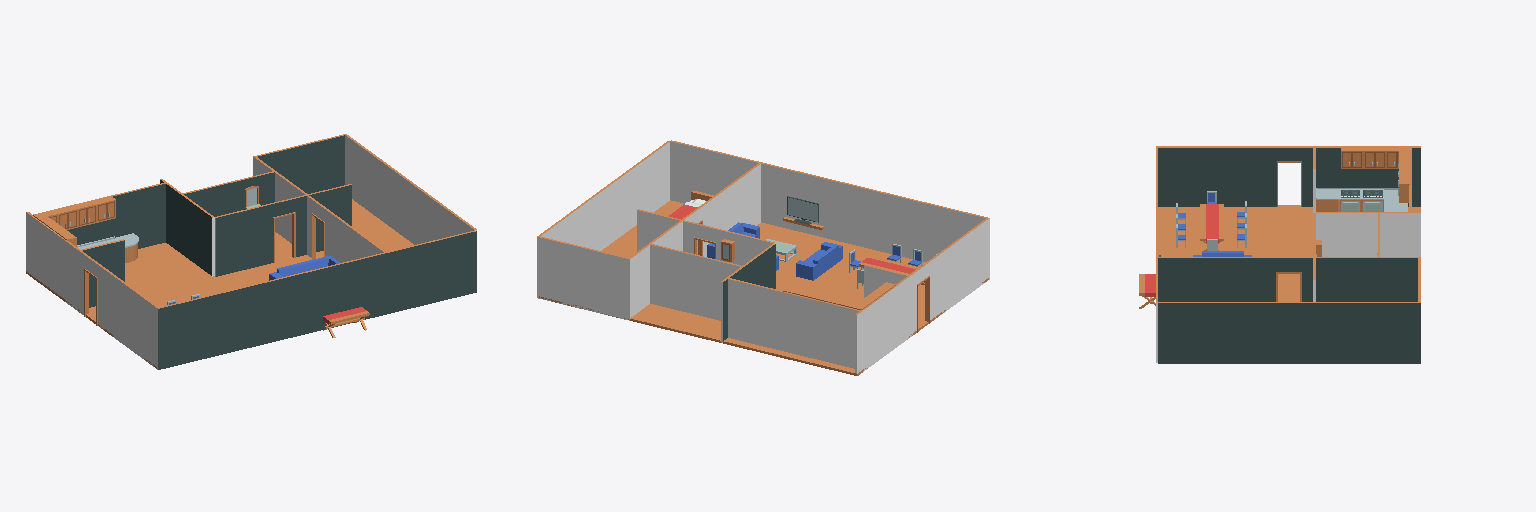
File: kitchenFridge.obj
3 renders of one model, left to right at view 1: azimuth 30°, elevation 25°; view 2: azimuth 150°, elevation 25°; view 3: azimuth 270°, elevation 25°, orthographic.
Parts seen in each view (by area): view 1: wall.027_wall.028, wall.011, wall.017_wall.023, wall.010, wall.025_wall.026, wall.015, wall.026_wall.027, wall.024_wall.025, wall.020, wall.002, wallDoorway, wall.013 (+27 smaller); view 2: wall.002, wall.001, wall, wall.021, wall.017_wall.023, wall.020, wall.025_wall.026, wall.026_wall.027, wall.011, wall.022, wall.024_wall.025, wall.019 (+28 smaller); view 3: wall.005, wall.007, wall.008, wall.006, wall.023_wall.024, wall.028_wall.029, wall.016, wall.029_wall.030, wall.003, wall.009, wall.012, wall.004 (+15 smaller).
Boxes of the visible parts, <box> form: wall.027_wall.028: <box>157,297,203,369</box>; wall.011: <box>430,230,476,303</box>; wall.017_wall.023: <box>249,275,294,347</box>; wall.010: <box>384,241,430,314</box>; wall.025_wall.026: <box>203,286,248,358</box>; wall.015: <box>215,206,260,276</box>; wall.026_wall.027: <box>294,264,339,336</box>; wall.024_wall.025: <box>339,253,385,325</box>; wall.020: <box>122,182,166,248</box>; wall.002: <box>299,134,344,193</box>; wallDoorway: <box>261,195,306,265</box>; wall.013: <box>186,198,214,276</box>; wall.002: <box>539,236,585,309</box>; wall.001: <box>585,248,630,320</box>; wall: <box>650,244,695,314</box>; wall.021: <box>771,288,816,358</box>; wall.017_wall.023: <box>852,185,897,253</box>; wall.020: <box>727,278,771,347</box>; wall.025_wall.026: <box>898,196,943,261</box>; wall.026_wall.027: <box>807,174,852,243</box>; wall.011: <box>670,140,716,203</box>; wall.022: <box>817,300,862,368</box>; wall.024_wall.025: <box>761,163,807,232</box>; wall.019: <box>855,295,883,373</box>; wall.005: <box>1368,302,1420,363</box>; wall.007: <box>1263,302,1315,363</box>; wall.008: <box>1158,302,1210,363</box>; wall.006: <box>1316,302,1367,363</box>; wall.023_wall.024: <box>1211,302,1262,363</box>; wall.028_wall.029: <box>1158,146,1210,206</box>; wall.016: <box>1211,146,1262,206</box>; wall.029_wall.030: <box>1158,257,1210,301</box>; wall.003: <box>1316,257,1367,301</box>; wall.009: <box>1211,257,1262,301</box>; wall.012: <box>1368,212,1420,256</box>; wall.004: <box>1368,257,1419,301</box>.
Bounding box in the file's own units: 7.07 × 1.37 × 5.37.